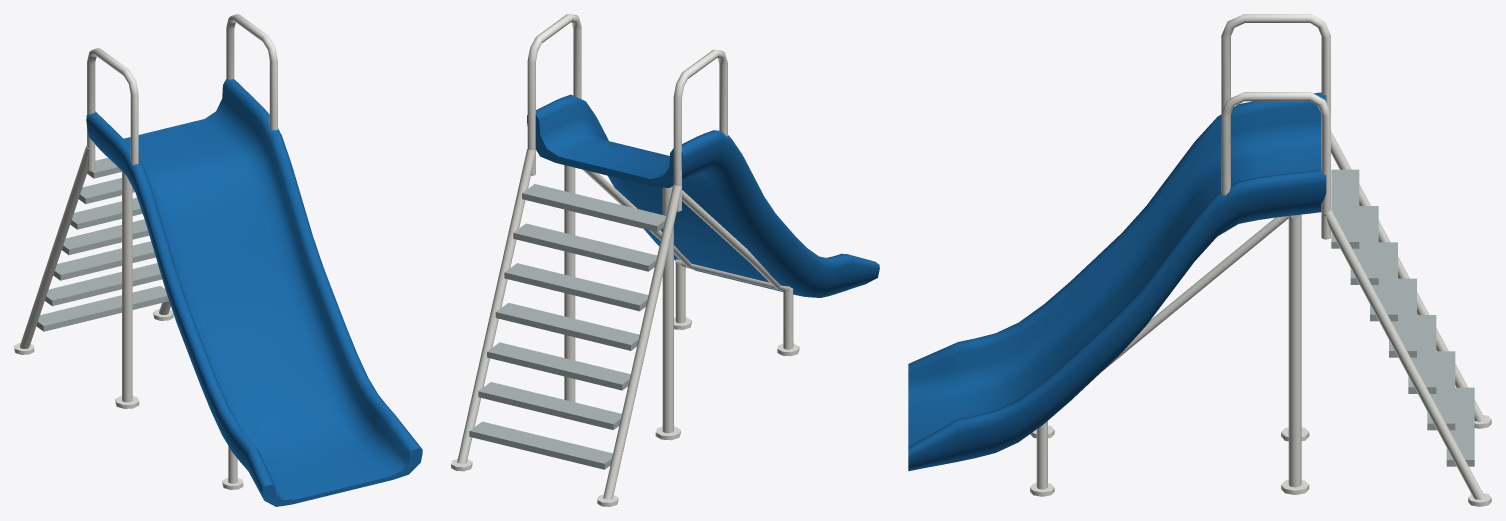
The model's file is pool_slide_straight.glb.
3 views of the same model, side by side, from view 1: azimuth 30°, elevation 25°; view 2: azimuth 150°, elevation 25°; view 3: azimuth 270°, elevation 25° (orthographic). The views are drawn at different scales.
Visible parts, largest first — view 1: pool_slide_straight; view 2: pool_slide_straight; view 3: pool_slide_straight.
Part boxes in pixels (box(x1,y1,x2,y2)): pool_slide_straight: box(14, 14, 422, 506); pool_slide_straight: box(451, 14, 879, 506); pool_slide_straight: box(908, 14, 1491, 506).
Bounding box in the file's own units: 1.1 × 2.32 × 3.
